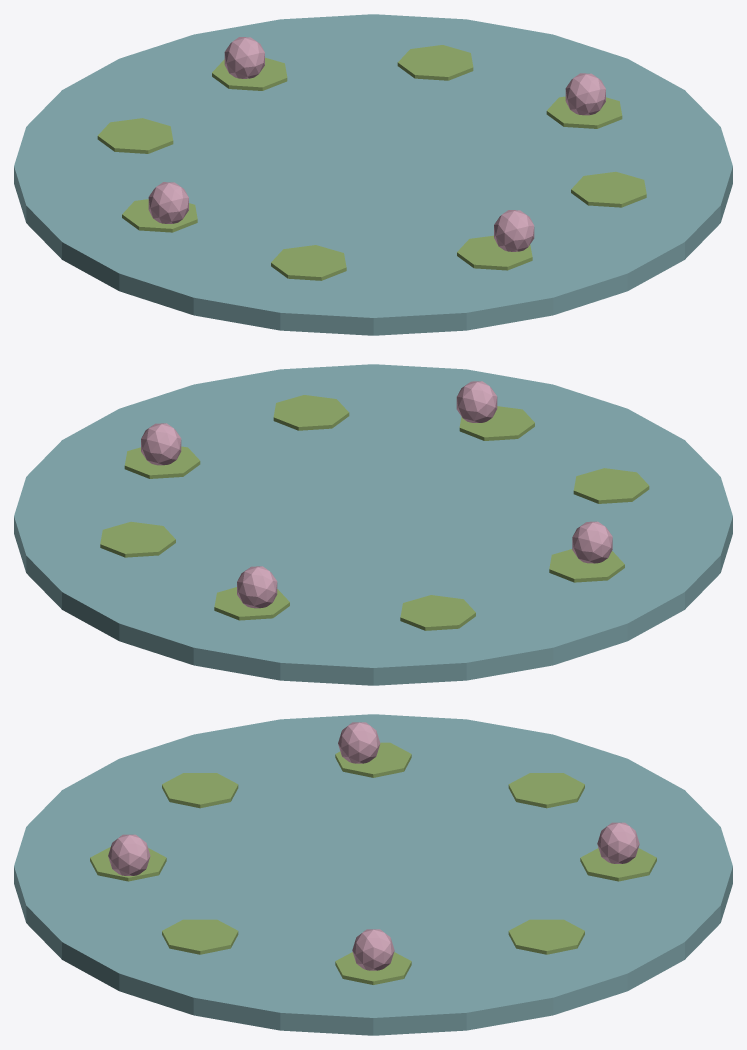
The model's file is lotus_pond.glb.
3 renders of one model, top to bottom at view 1: azimuth 30°, elevation 25°; view 2: azimuth 150°, elevation 25°; view 3: azimuth 270°, elevation 25°, orthographic.
Visible parts, largest first — view 1: part_0, part_2, part_4, part_6, part_8, part_7, part_1, part_9, part_10, part_11, part_12, part_3 (+1 smaller); view 2: part_0, part_8, part_6, part_4, part_2, part_7, part_5, part_1, part_12, part_11, part_9, part_10 (+1 smaller); view 3: part_0, part_2, part_8, part_4, part_6, part_3, part_5, part_1, part_9, part_10, part_11, part_12 (+1 smaller).
Boxes of the visible parts, box(x1,y1,x2,y2) form: part_0: box(14, 14, 732, 335); part_2: box(397, 45, 473, 80); part_4: box(97, 118, 173, 153); part_6: box(271, 245, 346, 280); part_8: box(571, 171, 646, 207); part_7: box(457, 235, 532, 270); part_1: box(546, 96, 622, 128); part_9: box(565, 73, 605, 115); part_10: box(224, 37, 264, 78); part_11: box(148, 182, 188, 223); part_12: box(494, 210, 534, 251); part_3: box(212, 57, 287, 90); part_0: box(14, 364, 732, 685); part_8: box(273, 395, 349, 430); part_6: box(573, 468, 649, 503); part_4: box(400, 595, 475, 630); part_2: box(100, 521, 175, 557); part_7: box(459, 406, 534, 440); part_5: box(549, 549, 624, 582); part_1: box(124, 446, 200, 478); part_12: box(456, 381, 497, 422); part_11: box(572, 521, 612, 563); part_9: box(141, 423, 181, 465); part_10: box(237, 566, 277, 608); part_0: box(14, 714, 732, 1035); part_2: box(508, 919, 584, 954); part_8: box(162, 919, 238, 954); part_4: box(508, 773, 584, 808); part_6: box(162, 773, 238, 808); part_3: box(580, 848, 656, 881); part_5: box(335, 742, 411, 777); part_1: box(335, 952, 411, 984); part_9: box(352, 929, 394, 970); part_10: box(597, 822, 639, 863); part_11: box(338, 722, 380, 763); part_12: box(108, 834, 150, 875).
Bounding box in the file's own units: 4.4 × 0.39 × 4.4.
